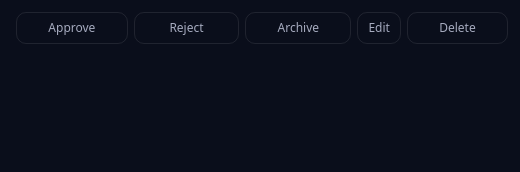
Scenario: row actions (review moderation) › a thrown network error ends the pending state and is reported
What coordinates should you click on to do the following:
click the button "Approve"
I would click on:
 (72, 28)
Its box is [16,12,128,44].
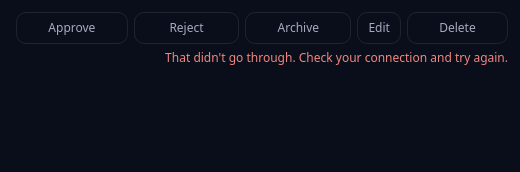
Expected: the message shows "connection", [165,49,508,66]
